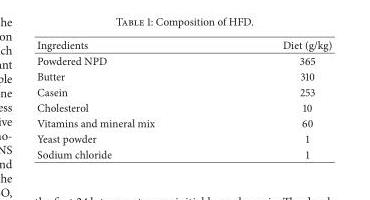table: (36, 36, 331, 161)
table column: (36, 36, 217, 161), (217, 36, 331, 161)
table column header: (36, 36, 331, 52)
table row: (36, 36, 331, 52), (36, 52, 331, 68), (36, 83, 331, 99), (36, 114, 331, 130), (36, 130, 331, 146), (36, 68, 331, 83), (36, 99, 331, 114), (36, 146, 331, 161)
